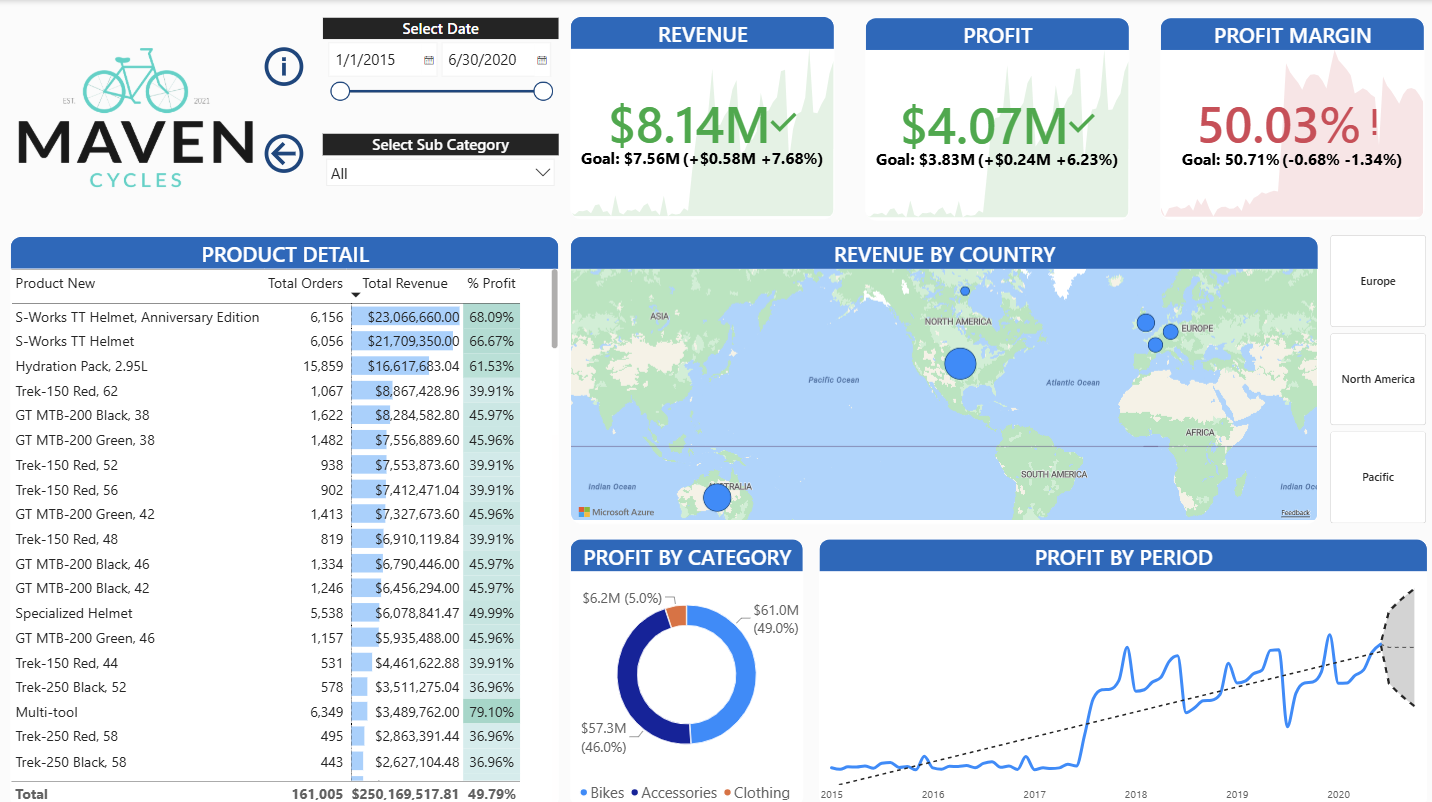

The page's visual inventory and layout, read from the dashboard file:
{"tool":"powerbi","page":{"name":"Executive View","canvas":[1920,1080],"ordinal":0},"visuals":[{"type":"kpi","title":"REVENUE","fields":{"Indicator":["Maven Cycles Sales.Total Revenue"],"TrendLine":["Maven Cycles Calendar.Start Of Month"],"Goal":["Maven Cycles Sales.Last Month Revenue"]},"box":[763.7,21.7,352.9,271.4],"z":0},{"type":"kpi","title":"PROFIT","fields":{"TrendLine":["Maven Cycles Calendar.Start Of Month"],"Goal":["Maven Cycles Sales.Last Month Profit"],"Indicator":["Maven Cycles Sales.Total Profit"]},"box":[1157.8,23.5,352.9,271.4],"z":1000},{"type":"kpi","title":"PROFIT MARGIN","fields":{"TrendLine":["Maven Cycles Calendar.Start Of Month"],"Indicator":["Maven Cycles Sales.% Profit"],"Goal":["Maven Cycles Sales.Last Month % Profit"]},"box":[1551.9,23.8,352.8,270.5],"z":2000},{"type":"tableEx","title":"PRODUCT DETAIL","fields":{"Values":["Maven Cycles Products.Product New","Maven Cycles Sales.Total Orders","Maven Cycles Sales.Total Revenue","Maven Cycles Sales.% Profit"]},"box":[14.5,314.9,732.9,765.5],"z":3000},{"type":"advancedSlicerVisual","fields":{"Values":["Maven Cycles Regions.Continent"]},"box":[1778.9,293.2,128.5,427.1],"z":3500},{"type":"azureMap","title":"REVENUE BY COUNTRY","fields":{"Category":["Maven Cycles Regions.Country"],"Size":["Maven Cycles Sales.Total Revenue"]},"box":[763.7,314.9,998.9,383.6],"z":4000},{"type":"lineChart","title":"PROFIT BY PERIOD","fields":{"Y":["Maven Cycles Sales.Total Profit"],"Category":["Maven Cycles Calendar.Start Of Month","Maven Cycles Calendar.Start Of Quater","Maven Cycles Calendar.Year"]},"box":[1094.8,720.2,812.5,360.1],"z":5000},{"type":"donutChart","title":"PROFIT BY CATEGORY","fields":{"Y":["Maven Cycles Sales.Total Profit"],"Category":["Maven Cycles Product Categories.Product Category"]},"box":[763.7,720.2,311.3,360.1],"z":6000},{"type":"image","box":[14.5,0,334.8,314.9],"z":8000},{"type":"slicer","title":"Select Date","fields":{"Values":["Maven Cycles Calendar.Date"]},"box":[432.5,23.5,314.9,114],"z":9000},{"type":"actionButton","box":[349.3,159.3,63.3,83.2],"z":10000},{"type":"slicer","title":"Select Sub Category","fields":{"Values":["Maven Cycles Product Subcategories.Sub Category"]},"box":[432.5,179.2,314.9,114],"z":11000},{"type":"actionButton","box":[349.3,39.8,63.3,97.7],"z":12000}]}

Visuals, with their boxes in screenshot pixels (x1, y1, x2, y2), scaled from the page's 1920x1080 canvas onto the 1432x802 screenshot:
"REVENUE" kpi: (x1=570, y1=16, x2=833, y2=218)
"PROFIT" kpi: (x1=864, y1=17, x2=1127, y2=219)
"PROFIT MARGIN" kpi: (x1=1157, y1=18, x2=1421, y2=219)
"PRODUCT DETAIL" tableEx: (x1=11, y1=234, x2=557, y2=801)
advancedSlicerVisual - Maven Cycles Regions.Continent: (x1=1327, y1=218, x2=1423, y2=535)
"REVENUE BY COUNTRY" azureMap: (x1=570, y1=234, x2=1315, y2=519)
"PROFIT BY PERIOD" lineChart: (x1=817, y1=535, x2=1423, y2=801)
"PROFIT BY CATEGORY" donutChart: (x1=570, y1=535, x2=802, y2=801)
image: (x1=11, y1=0, x2=261, y2=234)
"Select Date" slicer: (x1=323, y1=17, x2=557, y2=102)
actionButton: (x1=261, y1=118, x2=308, y2=180)
"Select Sub Category" slicer: (x1=323, y1=133, x2=557, y2=218)
actionButton: (x1=261, y1=30, x2=308, y2=102)
